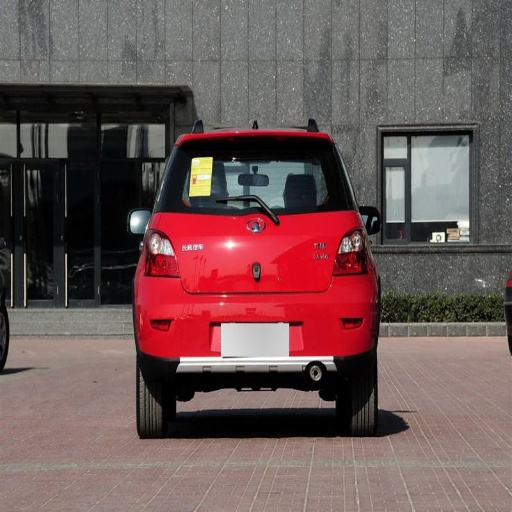back_bumper: (137, 275, 376, 372)
trunk: (144, 202, 357, 319)
